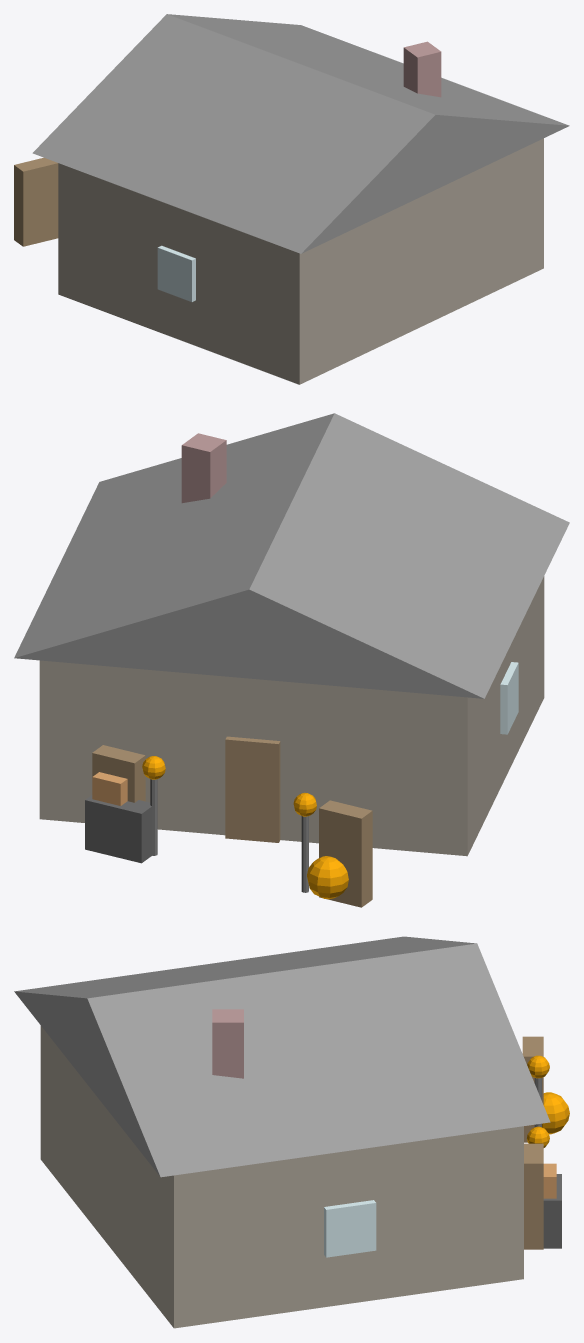
Rendered from house_hephaestus.glb.
The picture shows the model from 3 angles, top to bottom: view 1: azimuth 30°, elevation 25°; view 2: azimuth 150°, elevation 25°; view 3: azimuth 270°, elevation 25°; orthographic projection. The views are drawn at different scales.
Visible parts, largest first — view 1: hephaestus_atap.001, hephaestus_dinding.001, hephaestus_rak_kiri.001, hephaestus_cerobong.001, hephaestus_jendela_-1.001; view 2: hephaestus_atap.001, hephaestus_dinding.001, hephaestus_pintu.001, hephaestus_rak_kiri.001, hephaestus_landasan.001, hephaestus_cerobong.001, hephaestus_rak_kanan.001, hephaestus_bara.001, hephaestus_jendela_-1.001, hephaestus_kotak_pos.001; view 3: hephaestus_atap.001, hephaestus_dinding.001, hephaestus_jendela_1.001, hephaestus_cerobong.001, hephaestus_rak_kanan.001, hephaestus_landasan.001, hephaestus_bara.001, hephaestus_rak_kiri.001, hephaestus_kotak_pos.001.
Part boxes in pixels (x1,y1,x2,y2): hephaestus_atap.001: (32, 14, 569, 253); hephaestus_dinding.001: (58, 138, 543, 384); hephaestus_rak_kiri.001: (14, 157, 58, 246); hephaestus_cerobong.001: (403, 41, 441, 97); hephaestus_jendela_-1.001: (157, 245, 195, 301); hephaestus_atap.001: (14, 413, 569, 698); hephaestus_dinding.001: (39, 576, 544, 856); hephaestus_pintu.001: (225, 736, 280, 842); hephaestus_rak_kiri.001: (319, 800, 372, 907); hephaestus_landasan.001: (85, 795, 151, 863); hephaestus_cerobong.001: (181, 433, 226, 503); hephaestus_rak_kanan.001: (92, 745, 145, 802); hephaestus_bara.001: (307, 856, 348, 899); hephaestus_jendela_-1.001: (500, 662, 518, 734); hephaestus_kotak_pos.001: (92, 772, 127, 805); hephaestus_atap.001: (14, 936, 550, 1177); hephaestus_dinding.001: (40, 1025, 523, 1328); hephaestus_jendela_1.001: (324, 1200, 376, 1257); hephaestus_cerobong.001: (212, 1009, 243, 1078); hephaestus_rak_kanan.001: (524, 1143, 543, 1249); hephaestus_landasan.001: (543, 1174, 561, 1248); hephaestus_bara.001: (542, 1092, 569, 1134); hephaestus_rak_kiri.001: (522, 1036, 543, 1142); hephaestus_kotak_pos.001: (543, 1163, 556, 1198).
Bounding box in the file's own units: 10.81 × 5.4 × 10.55.
